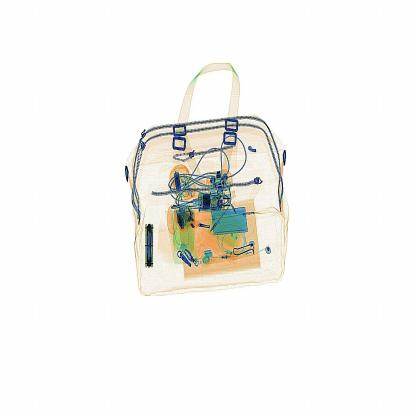scissors: (143, 224, 157, 271)
